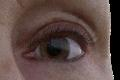eye: (40, 36, 70, 61)
